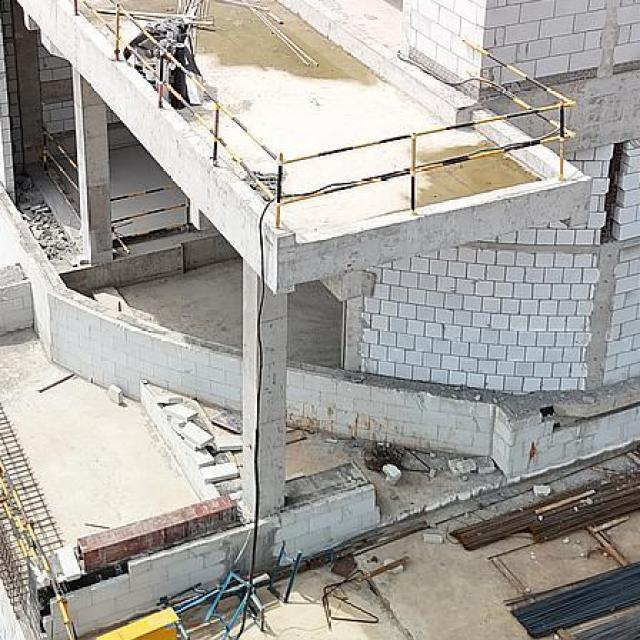edge_guardrail: (72, 0, 582, 233), (0, 458, 77, 640), (108, 184, 192, 256), (38, 126, 83, 226)
